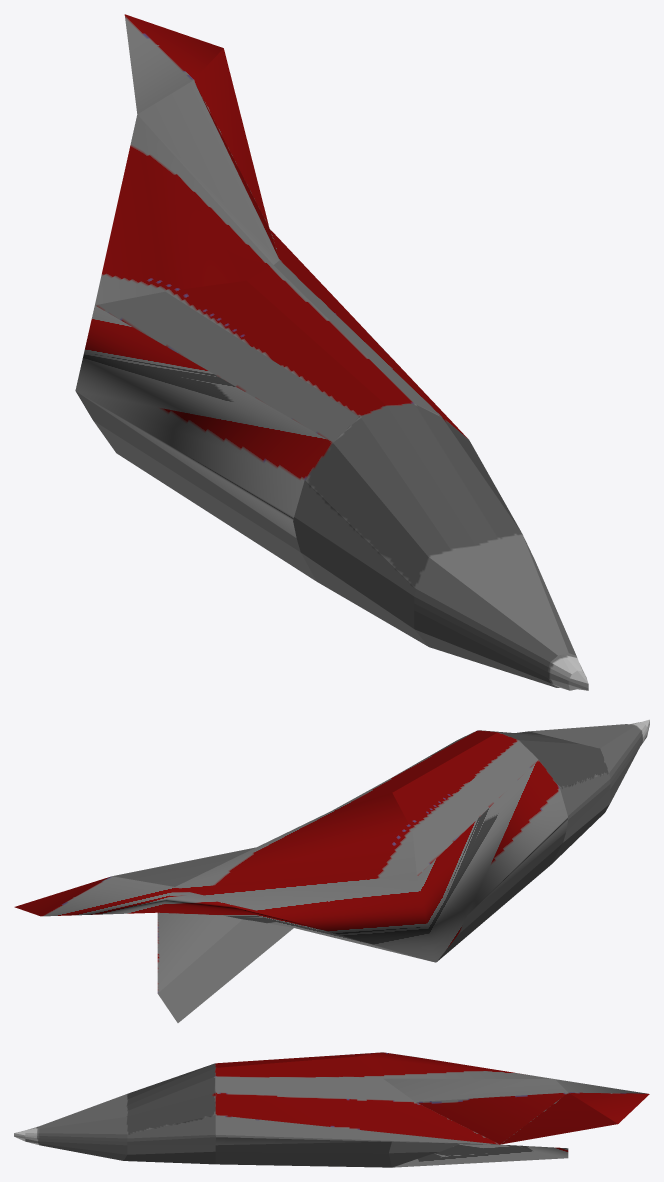
Rendered from enemyFighterBreak02.obj.
The picture shows the model from 3 angles, top to bottom: view 1: azimuth 30°, elevation 25°; view 2: azimuth 150°, elevation 25°; view 3: azimuth 270°, elevation 25°; orthographic projection. The views are drawn at different scales.
Visible parts, largest first — view 1: Cube.001; view 2: Cube.001; view 3: Cube.001.
Boxes of the visible parts, bbox=[...] form: Cube.001: bbox=[75, 14, 588, 690]; Cube.001: bbox=[14, 719, 649, 1022]; Cube.001: bbox=[14, 1052, 649, 1167].
Size of the model in its own units: 1.49 by 0.7347 by 4.38.
Materials: 1 (1 with a texture image).
